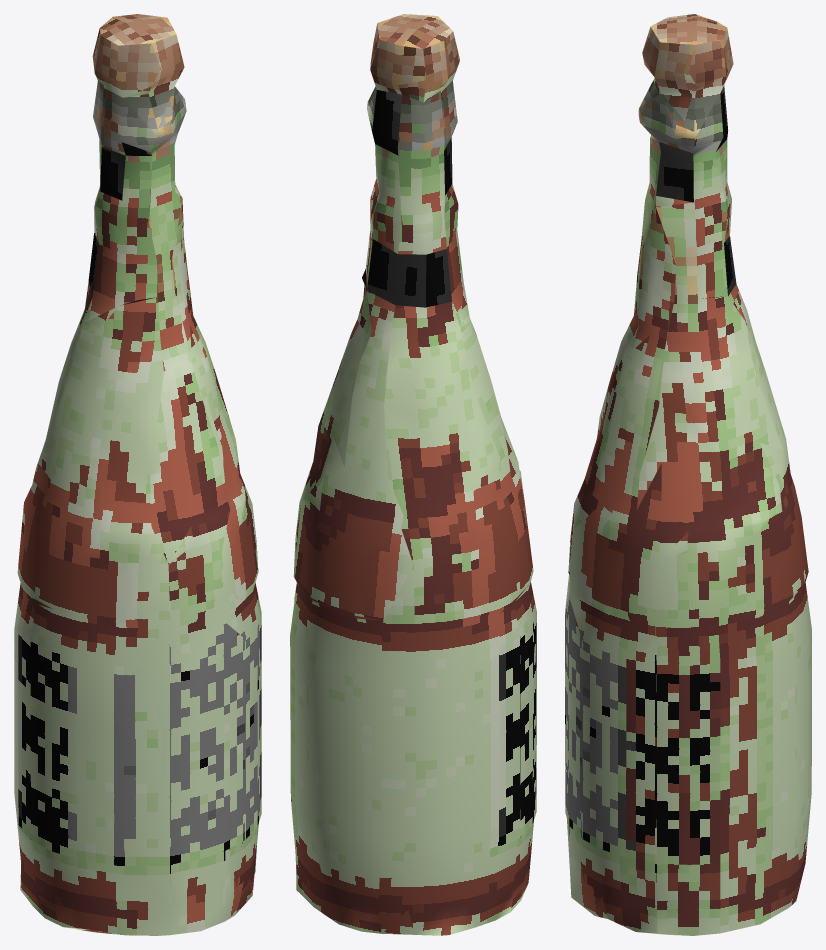
Rendered from wine_bottle_champagne.glb.
3 views of the same model, side by side, from view 1: azimuth 30°, elevation 25°; view 2: azimuth 150°, elevation 25°; view 3: azimuth 270°, elevation 25° (orthographic).
Visible parts, largest first — view 1: body; view 2: body; view 3: body.
Part boxes in pixels (bbox=[...]): body: bbox=[14, 14, 261, 935]; body: bbox=[290, 14, 536, 935]; body: bbox=[565, 14, 811, 935].
Size of the model in its own units: 0.0812 by 0.3155 by 0.0812.
1 material, 1 textured.
